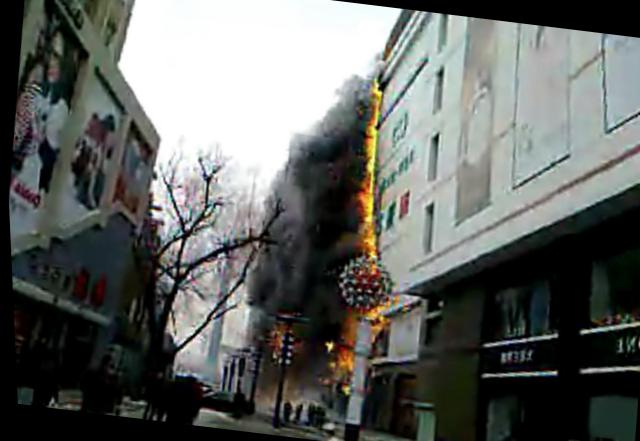fire: (360, 86, 386, 174), (353, 172, 379, 220), (360, 224, 379, 258), (334, 346, 354, 367)
